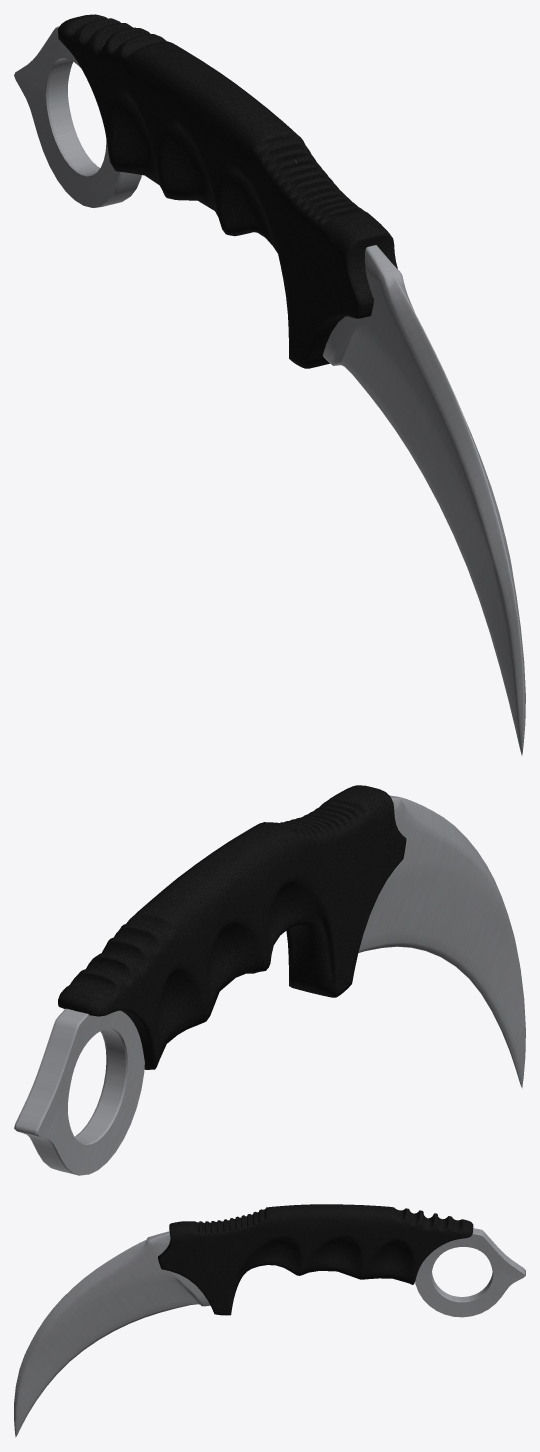
File: karambit.glb
The picture shows the model from 3 angles, top to bottom: view 1: azimuth 30°, elevation 25°; view 2: azimuth 150°, elevation 25°; view 3: azimuth 270°, elevation 25°; orthographic projection. The views are drawn at different scales.
Visible parts, largest first — view 1: karambit; view 2: karambit; view 3: karambit.
Boxes of the visible parts, left/top/right/bottom form: karambit: left=14, top=14, right=525, bottom=755; karambit: left=14, top=785, right=525, bottom=1175; karambit: left=14, top=1204, right=525, bottom=1437.
Size of the model in its own units: 0.0174 by 0.1549 by 0.3114.
Materials: 1 (1 with a texture image).
